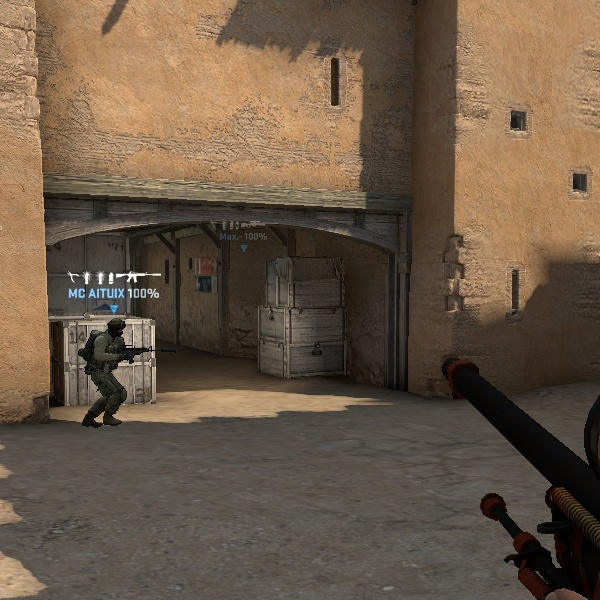ct_body: (82, 313, 143, 430)
ct_head: (102, 314, 132, 345)
